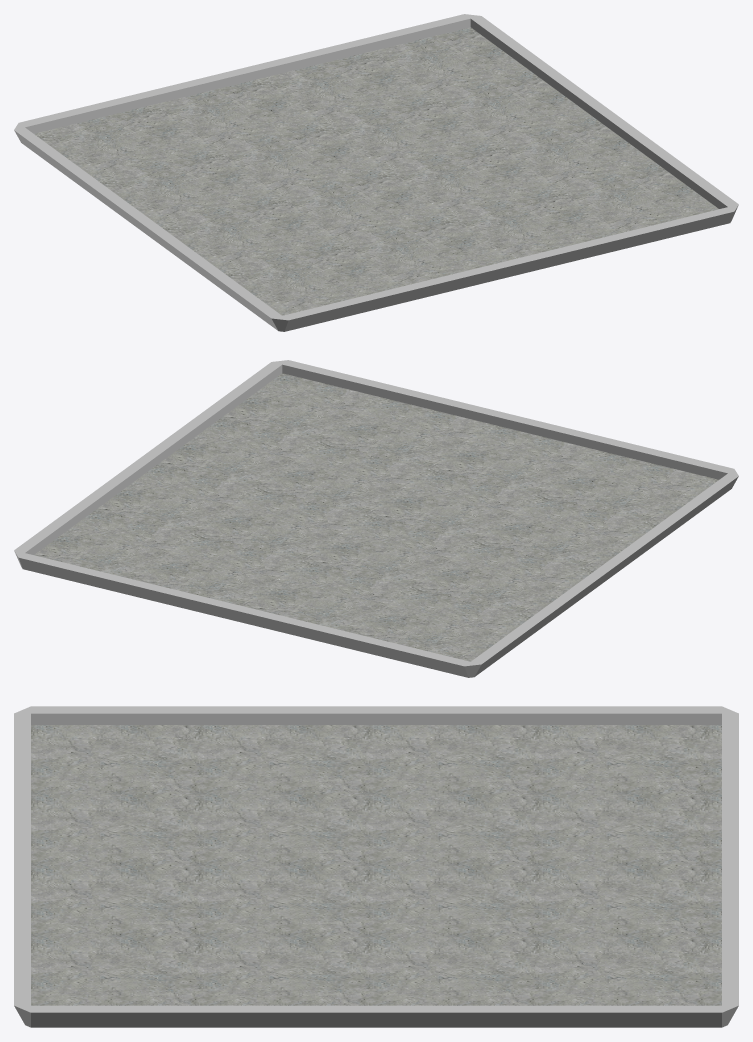
File: Roof_Type_B03.fbx
3 renders of one model, top to bottom at view 1: azimuth 30°, elevation 25°; view 2: azimuth 150°, elevation 25°; view 3: azimuth 270°, elevation 25°, orthographic. The views are drawn at different scales.
Visible parts, largest first — view 1: Roof_Type_B03; view 2: Roof_Type_B03; view 3: Roof_Type_B03.
Boxes of the visible parts, left/top/right/bottom form: Roof_Type_B03: left=14, top=14, right=738, bottom=331; Roof_Type_B03: left=14, top=360, right=738, bottom=677; Roof_Type_B03: left=14, top=706, right=738, bottom=1027.
Size of the model in its own units: 1074 by 32 by 1074.
